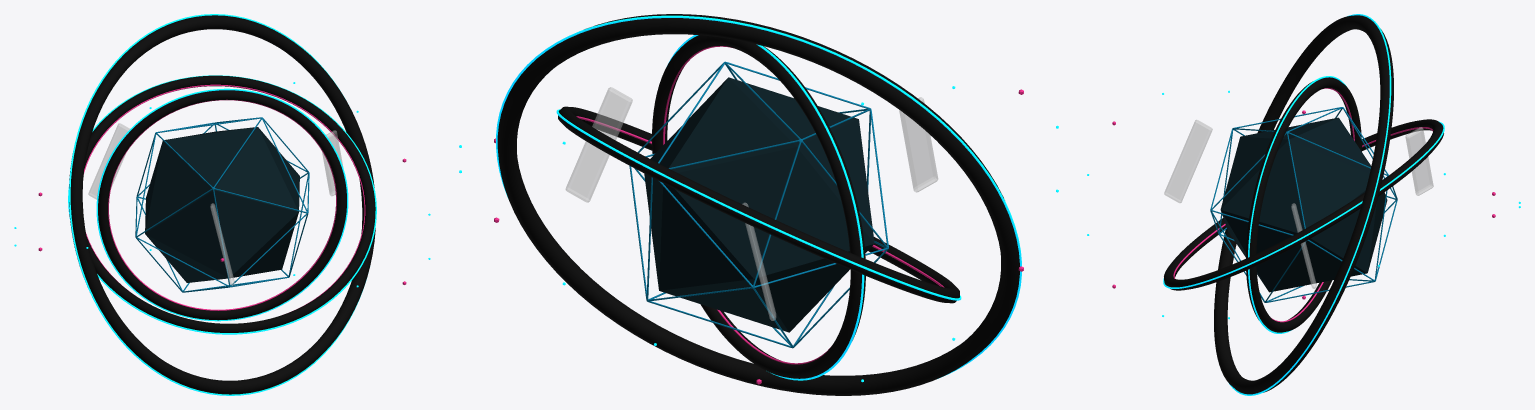
The model's file is intelligence-core.glb.
3 views of the same model, side by side, from view 1: azimuth 30°, elevation 25°; view 2: azimuth 150°, elevation 25°; view 3: azimuth 270°, elevation 25° (orthographic). The views are drawn at different scales.
Parts seen in each view (by area): view 1: IntelligenceCrystal, AlloyOrbit0, AlloyOrbit1, AlloyOrbit2, TitaniumExoskeleton, LightInlay0, LightInlay2, LightInlay1, WarmMachinedLip2, WarmMachinedLip1, OpticalBlade1, OpticalBlade2 (+1 smaller); view 2: IntelligenceCrystal, AlloyOrbit0, AlloyOrbit2, AlloyOrbit1, TitaniumExoskeleton, OpticalBlade0, LightInlay0, OpticalBlade2, LightInlay1, LightInlay2, OpticalBlade1, WarmMachinedLip2; view 3: IntelligenceCrystal, AlloyOrbit0, AlloyOrbit1, AlloyOrbit2, TitaniumExoskeleton, OpticalBlade2, LightInlay0, OpticalBlade1, LightInlay1, LightInlay2, OpticalBlade0.
Part boxes in pixels (bbox=[...]): IntelligenceCrystal: bbox=[145, 127, 299, 282]; AlloyOrbit0: bbox=[69, 15, 375, 394]; AlloyOrbit1: bbox=[84, 75, 375, 332]; AlloyOrbit2: bbox=[98, 90, 346, 320]; TitaniumExoskeleton: bbox=[135, 117, 309, 292]; LightInlay0: bbox=[69, 14, 366, 395]; LightInlay2: bbox=[96, 88, 348, 321]; LightInlay1: bbox=[68, 75, 376, 334]; WarmMachinedLip2: bbox=[108, 99, 336, 310]; WarmMachinedLip1: bbox=[83, 84, 365, 312]; OpticalBlade1: bbox=[88, 123, 129, 199]; OpticalBlade2: bbox=[210, 203, 234, 285]; IntelligenceCrystal: bbox=[644, 77, 874, 332]; AlloyOrbit0: bbox=[497, 14, 1019, 395]; AlloyOrbit2: bbox=[652, 35, 865, 378]; AlloyOrbit1: bbox=[558, 106, 959, 303]; TitaniumExoskeleton: bbox=[629, 61, 888, 348]; OpticalBlade0: bbox=[565, 87, 632, 202]; LightInlay0: bbox=[496, 15, 1021, 378]; OpticalBlade2: bbox=[899, 97, 938, 192]; LightInlay1: bbox=[556, 109, 961, 300]; LightInlay2: bbox=[667, 35, 864, 380]; OpticalBlade1: bbox=[742, 202, 776, 320]; WarmMachinedLip2: bbox=[663, 46, 831, 364]; IntelligenceCrystal: bbox=[1220, 117, 1387, 292]; AlloyOrbit0: bbox=[1214, 15, 1393, 394]; AlloyOrbit1: bbox=[1164, 119, 1443, 290]; AlloyOrbit2: bbox=[1246, 77, 1361, 332]; TitaniumExoskeleton: bbox=[1210, 107, 1397, 302]; OpticalBlade2: bbox=[1164, 119, 1212, 203]; LightInlay0: bbox=[1229, 14, 1391, 395]; OpticalBlade1: bbox=[1405, 127, 1433, 195]; LightInlay1: bbox=[1163, 121, 1444, 288]; LightInlay2: bbox=[1248, 76, 1346, 333]; OpticalBlade0: bbox=[1291, 203, 1316, 288].
Size of the model in its own units: 3.15 by 2.6 by 3.09.
